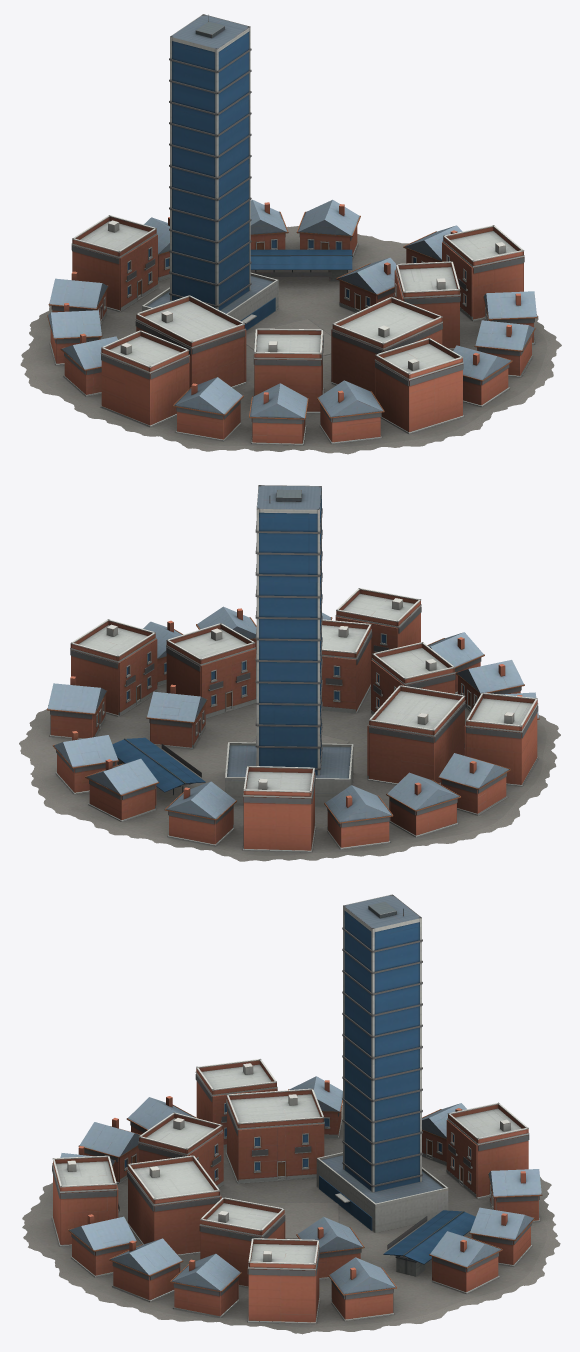
File: modern-town-big-a-europe.glb
3 renders of one model, top to bottom at view 1: azimuth 30°, elevation 25°; view 2: azimuth 150°, elevation 25°; view 3: azimuth 270°, elevation 25°, orthographic.
Parts seen in each view (by area): view 1: LOD0; view 2: LOD0; view 3: LOD0.
Boxes of the visible parts, x1=… form: LOD0: x1=20, y1=14, x2=561, y2=454; LOD0: x1=19, y1=485, x2=560, y2=861; LOD0: x1=22, y1=894, x2=560, y2=1334.
Size of what is drawn, in the model's own units: 8 by 4.77 by 7.98.
Materials: 3 (3 with a texture image).
